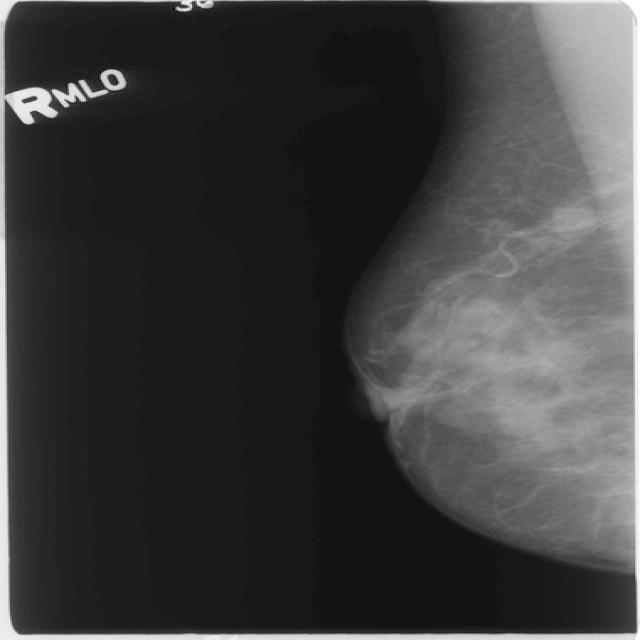tumour: (547, 205, 593, 233)
